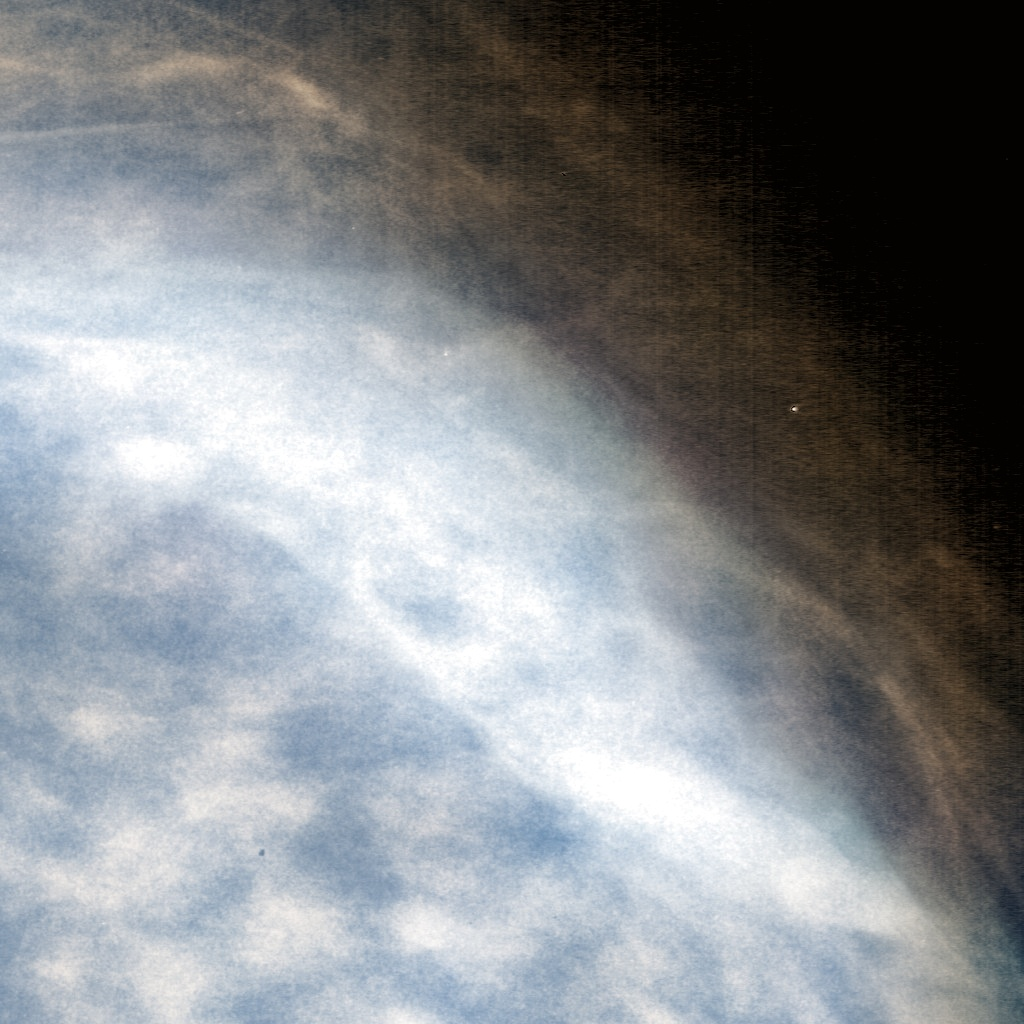tumor: (176, 228, 848, 796)
